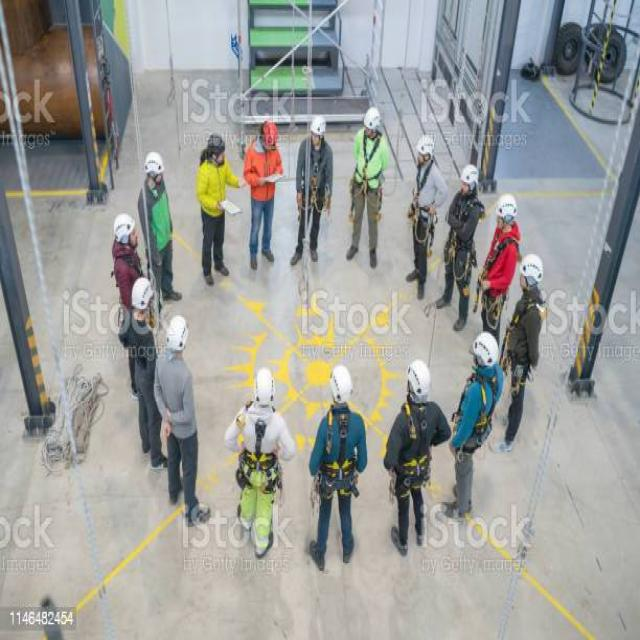Harness: (445, 362, 499, 456), (389, 397, 436, 502), (235, 412, 281, 500), (441, 194, 483, 290), (504, 295, 546, 386), (319, 408, 359, 501), (477, 234, 519, 316), (347, 127, 388, 210), (296, 135, 331, 215), (408, 160, 440, 244)
